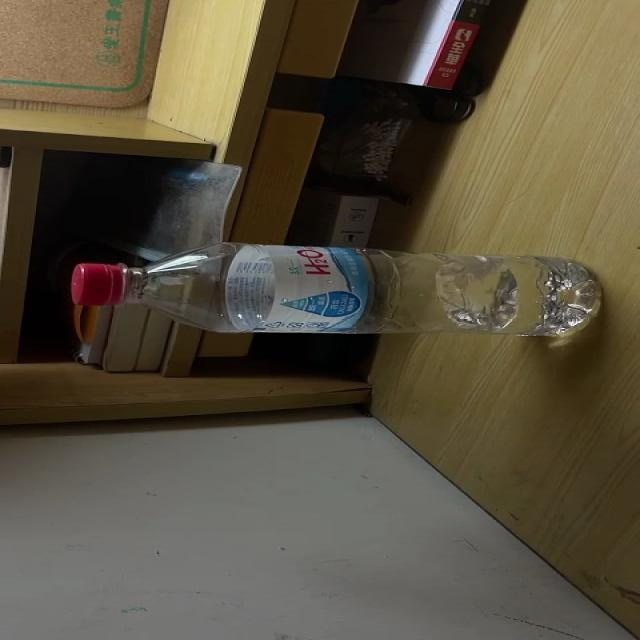Water: (68, 242, 604, 334)
